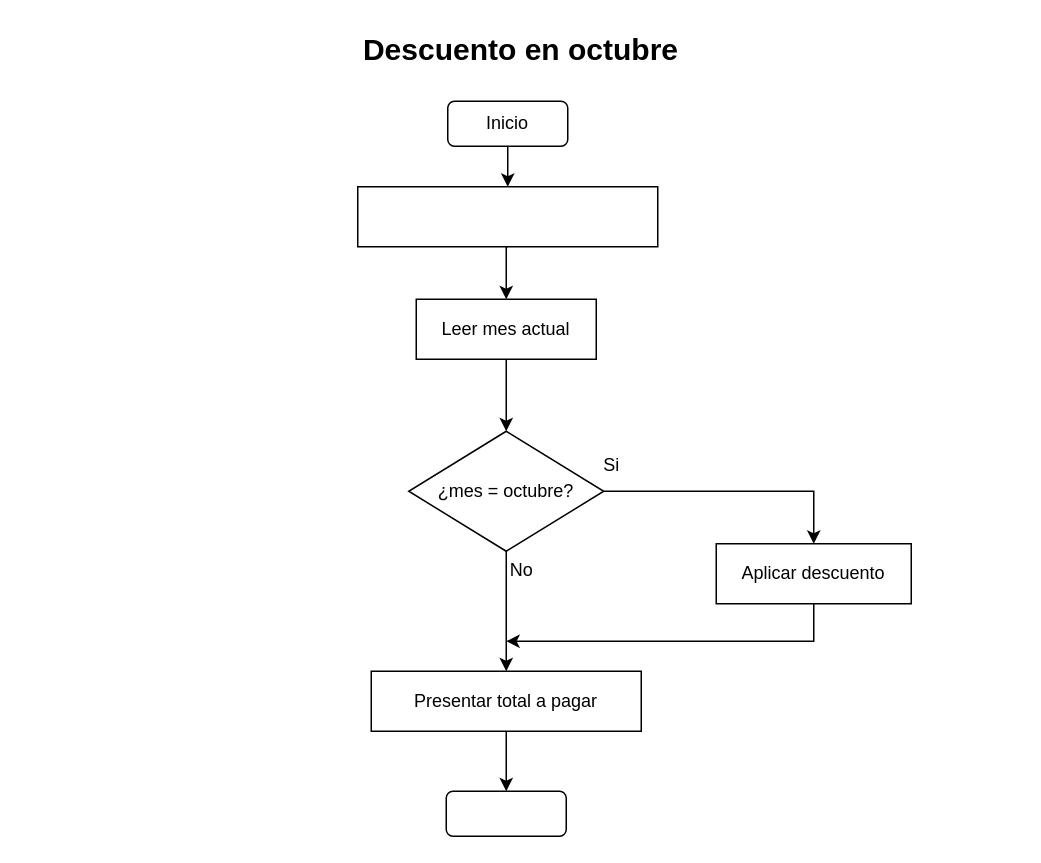
The diagram is 1041 pixels wide and 863 high, and some of its shapes have lost their labels. Here are the shapes that lost their labels. From the top down, the centre of each, then its label:
At point 507,216: "Leer importe total de la compra".
At point 505,813: "Fin".
